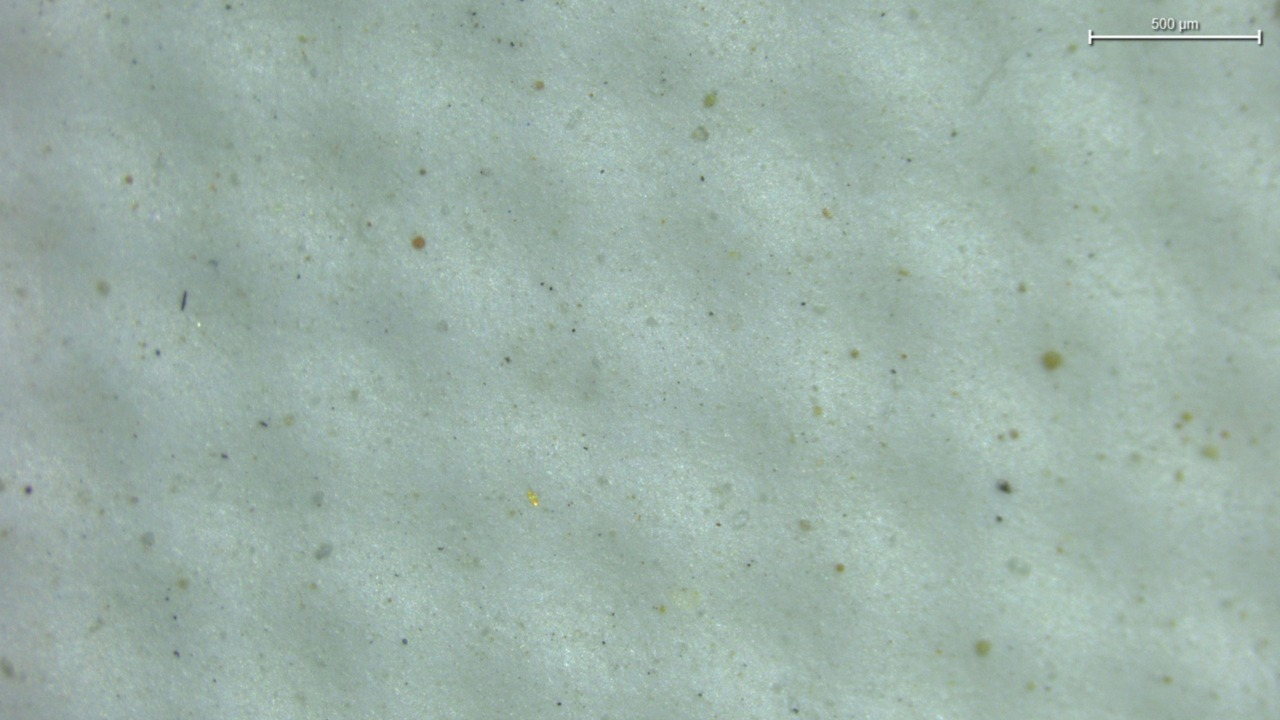microplastic_fragment: (527, 491, 538, 506)
